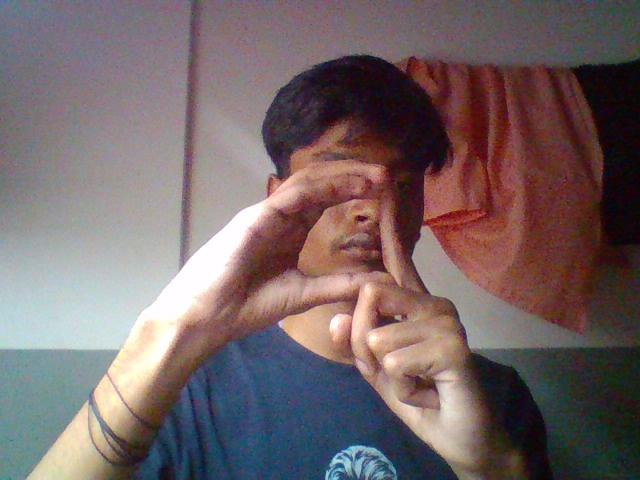D: (92, 149, 561, 455)
